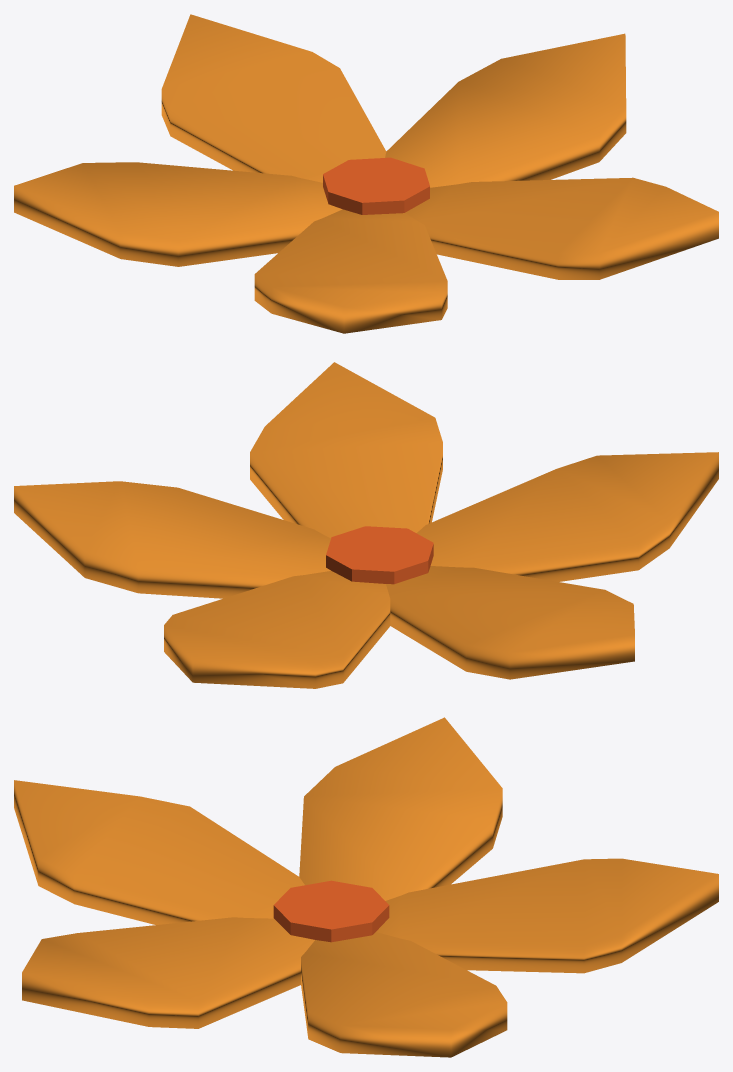
File: Flower_Orange_5.fbx
The picture shows the model from 3 angles, top to bottom: view 1: azimuth 30°, elevation 25°; view 2: azimuth 150°, elevation 25°; view 3: azimuth 270°, elevation 25°; orthographic projection. The views are drawn at different scales.
Parts seen in each view (by area): view 1: Cube.096, Cylinder.622; view 2: Cube.096, Cylinder.622; view 3: Cube.096, Cylinder.622.
Boxes of the visible parts, left/top/right/bottom form: Cube.096: left=14, top=14, right=718, bottom=333; Cylinder.622: left=323, top=157, right=429, bottom=214; Cube.096: left=14, top=362, right=718, bottom=688; Cylinder.622: left=326, top=526, right=433, bottom=584; Cube.096: left=14, top=717, right=718, bottom=1057; Cylinder.622: left=273, top=880, right=389, bottom=942.
Bounding box in the file's own units: 71.56 × 7.88 × 68.25.
